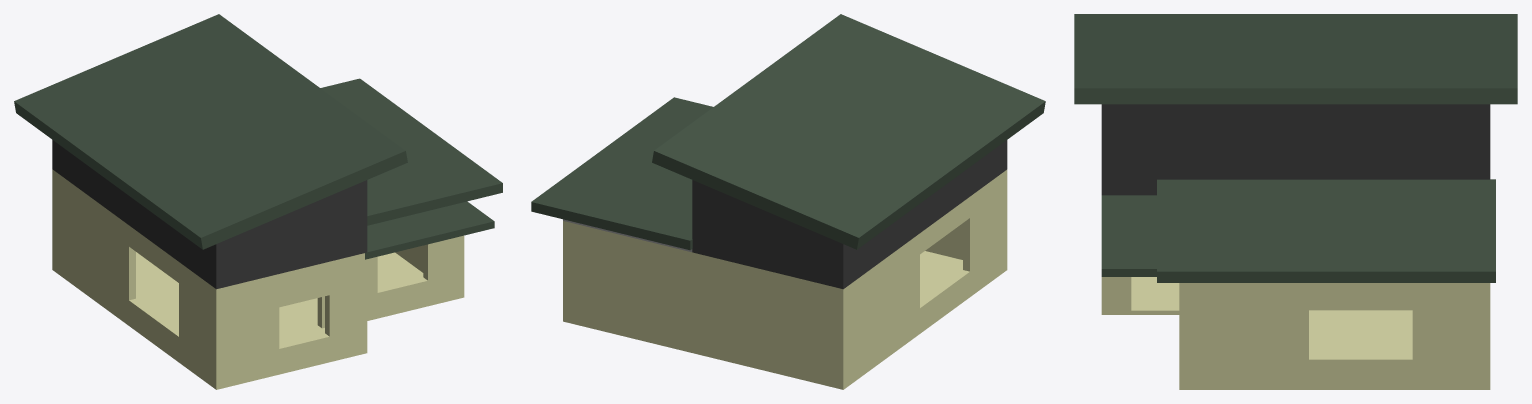
Rendered from House 3 New.fbx.
The picture shows the model from 3 angles, left to right: view 1: azimuth 30°, elevation 25°; view 2: azimuth 150°, elevation 25°; view 3: azimuth 270°, elevation 25°; orthographic projection. The views are drawn at different scales.
Visible parts, largest first — view 1: House_2; view 2: House_2; view 3: House_2.
Boxes of the visible parts, left/top/right/bottom form: House_2: left=14, top=14, right=502, bottom=389; House_2: left=531, top=14, right=1045, bottom=389; House_2: left=1074, top=14, right=1517, bottom=389.
Bounding box in the file's own units: 41.41 × 23.98 × 39.78.
